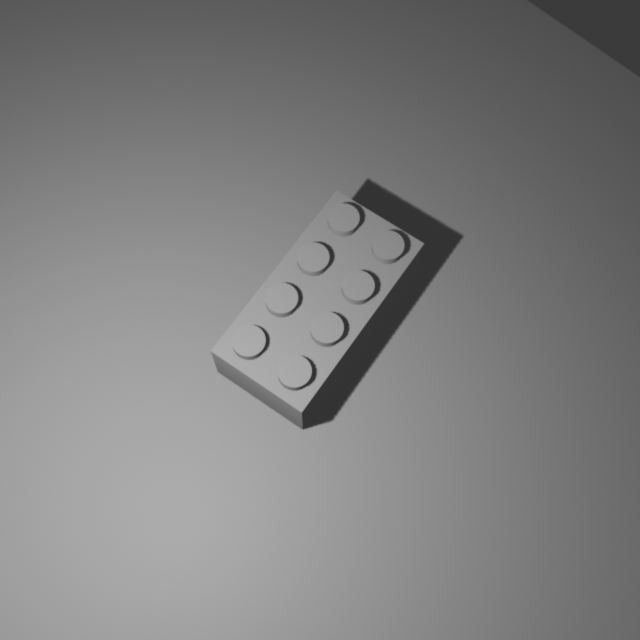lego_2x4: (209, 185, 425, 430)
